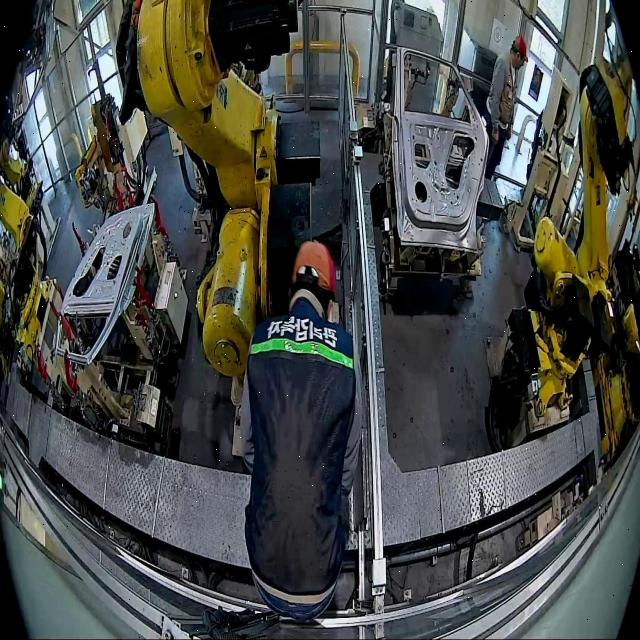Person: (240, 239, 364, 623), (484, 36, 528, 182)
